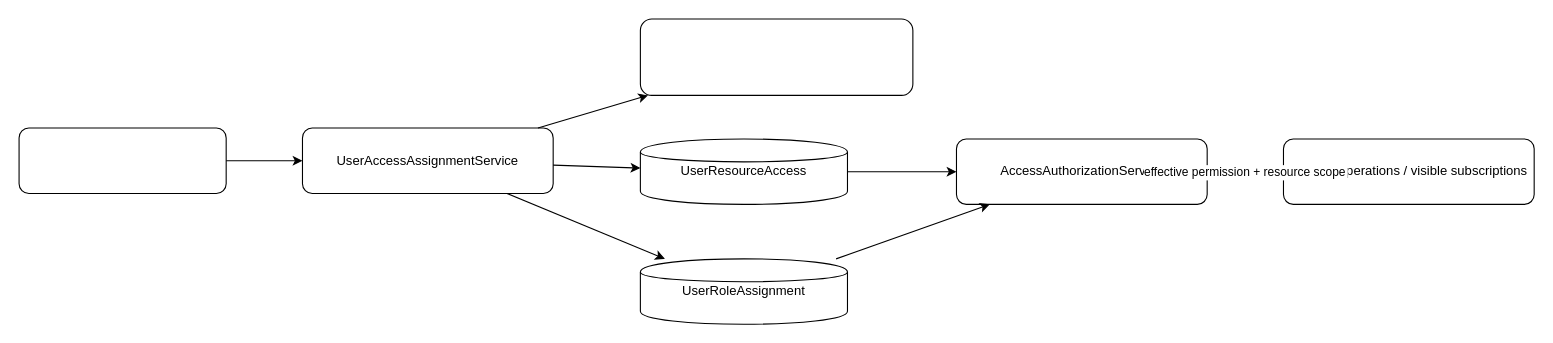
This 1553x343 diagram has some shape labels left out. Here are the shapes that lost their labels. From the top down, the box of each, then its label:
(639, 18, 913, 95): Business Unit / Project / Subscription scope
(18, 127, 226, 193): User Administration
